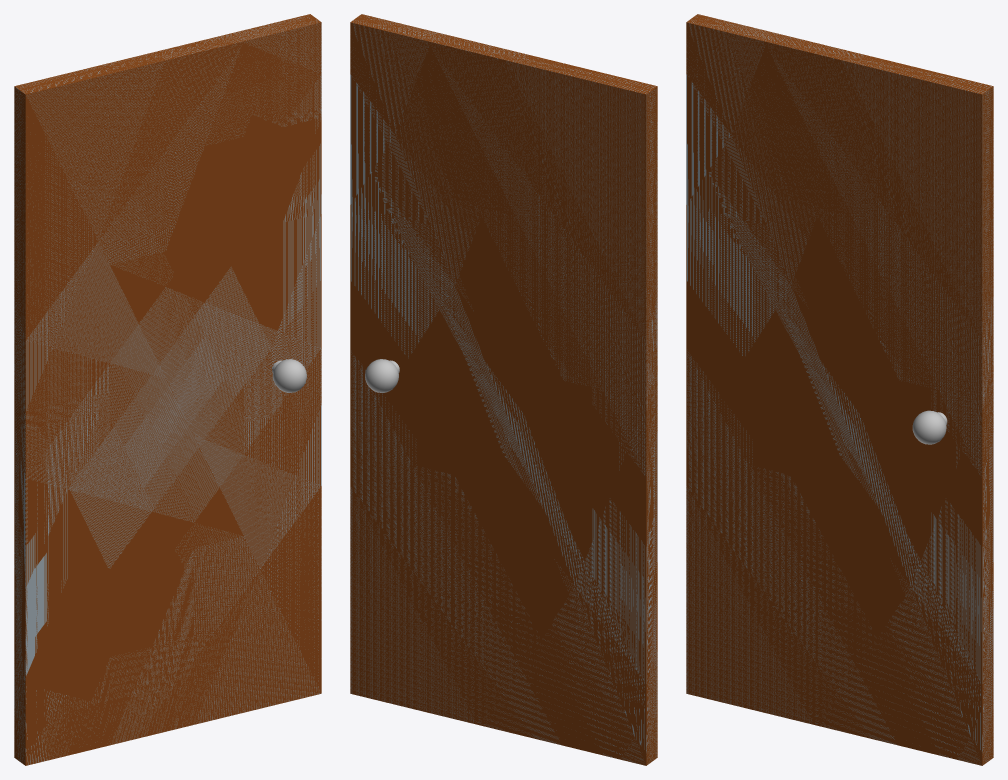
Rendered from door5.fbx.
3 renders of one model, left to right at view 1: azimuth 30°, elevation 25°; view 2: azimuth 150°, elevation 25°; view 3: azimuth 330°, elevation 25°, orthographic.
Parts seen in each view (by area): view 1: Mesh3_Door1 Model, Mesh1_Handle1 Door1 Model; view 2: Mesh3_Door1 Model, Mesh2_Handle2 Door1 Model; view 3: Mesh3_Door1 Model, Mesh1_Handle1 Door1 Model.
Boxes of the visible parts, x1,y1,x2,y2 form: Mesh3_Door1 Model: (14, 14, 321, 765); Mesh1_Handle1 Door1 Model: (272, 359, 306, 392); Mesh3_Door1 Model: (350, 14, 657, 765); Mesh2_Handle2 Door1 Model: (365, 359, 399, 392); Mesh3_Door1 Model: (686, 14, 993, 765); Mesh1_Handle1 Door1 Model: (912, 410, 947, 444).
Size of the model in its own units: 0.3 by 0.65 by 0.0869.
